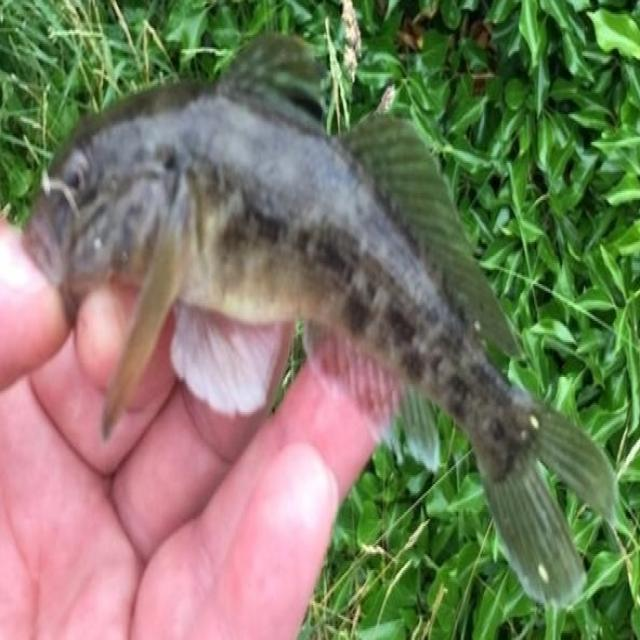Goby: (5, 5, 640, 605)
